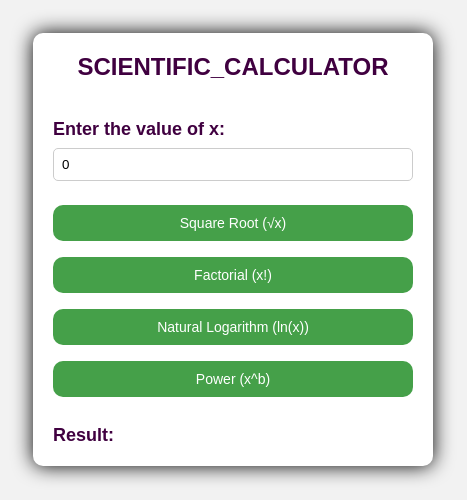
Test: calculates square root correctly
Step 1. Replace the text in the number field with "25" → x=233, y=164, box [53,148,413,181]
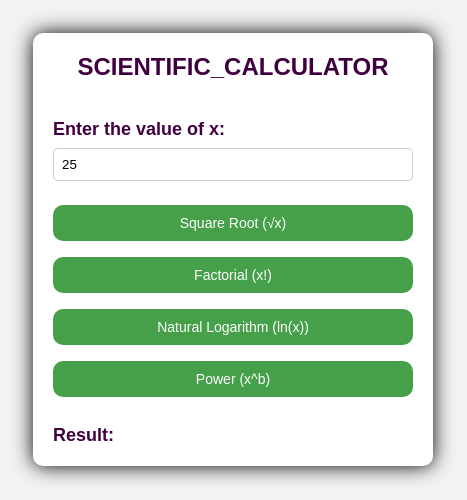
Step 2. Click the button "Square Root (√x)" → x=233, y=223, box [53,205,413,241]
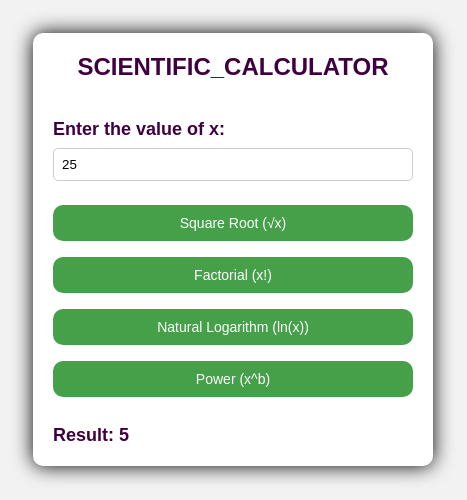
Now the heading "Result: 5" is shown, box [53,425,129,445]
